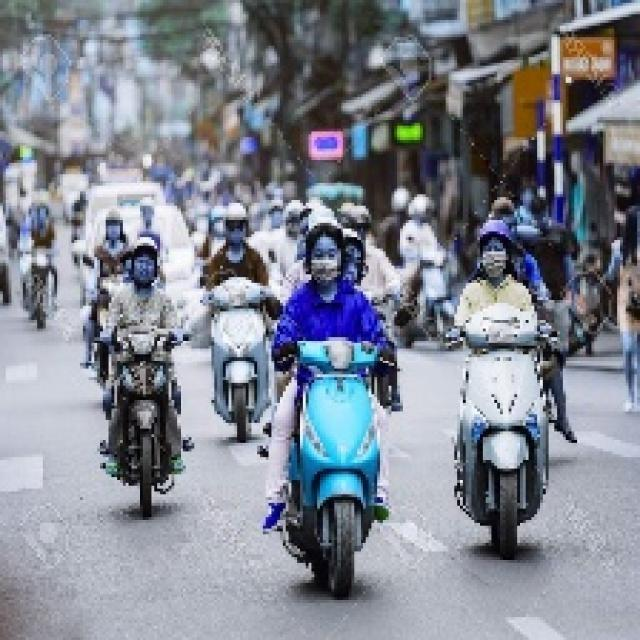Motorcycle: (290, 334, 389, 586), (96, 306, 194, 522), (466, 318, 552, 548), (207, 270, 288, 430)
